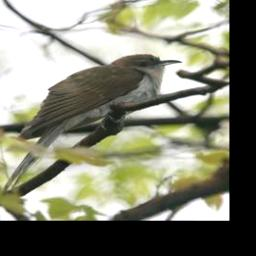Cuckoo: (1, 53, 182, 194)
